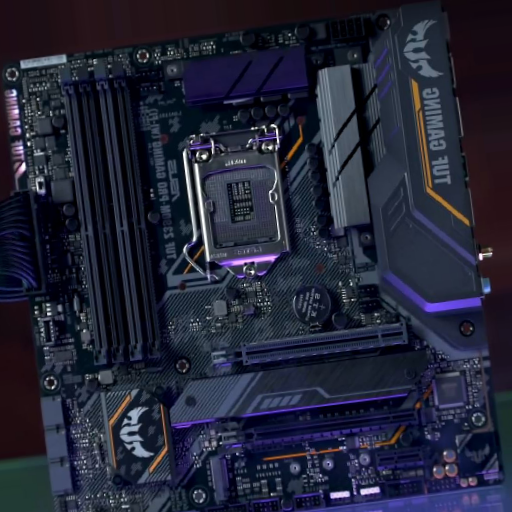CPU: (185, 124, 291, 277)
GPU: (210, 318, 411, 370), (217, 406, 419, 450)
MOTHERBOARD: (7, 11, 503, 510)
RAM: (60, 74, 163, 369)
SSD: (204, 453, 230, 505)
